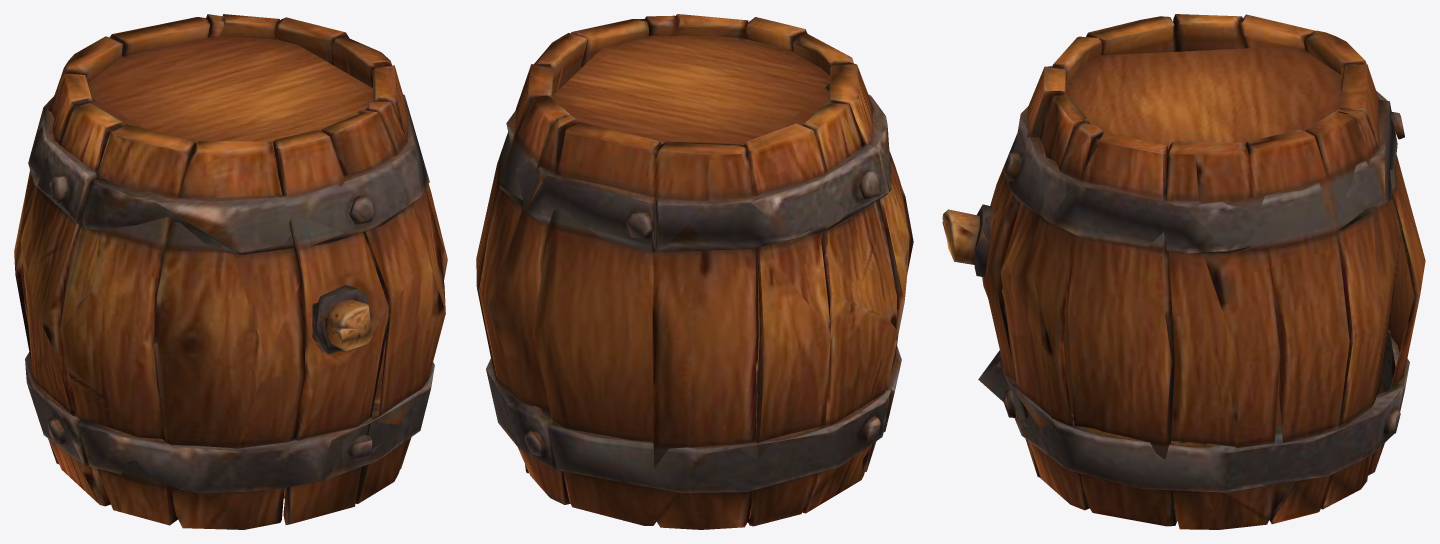
File: prop-rum-barrel-v1-desktop.glb
The picture shows the model from 3 angles, left to right: view 1: azimuth 30°, elevation 25°; view 2: azimuth 150°, elevation 25°; view 3: azimuth 270°, elevation 25°; orthographic projection.
Visible parts, largest first — view 1: tripo_node_5c7b29fd-e32b-4ff8-87a9-f045bb61ca9a; view 2: tripo_node_5c7b29fd-e32b-4ff8-87a9-f045bb61ca9a; view 3: tripo_node_5c7b29fd-e32b-4ff8-87a9-f045bb61ca9a.
Part boxes in pixels (<box>): tripo_node_5c7b29fd-e32b-4ff8-87a9-f045bb61ca9a: <box>14,14,447,529</box>; tripo_node_5c7b29fd-e32b-4ff8-87a9-f045bb61ca9a: <box>476,14,913,529</box>; tripo_node_5c7b29fd-e32b-4ff8-87a9-f045bb61ca9a: <box>942,14,1425,529</box>.
Bounding box in the file's own units: 0.9062 × 0.8618 × 0.9941.
1 material, 1 textured.
